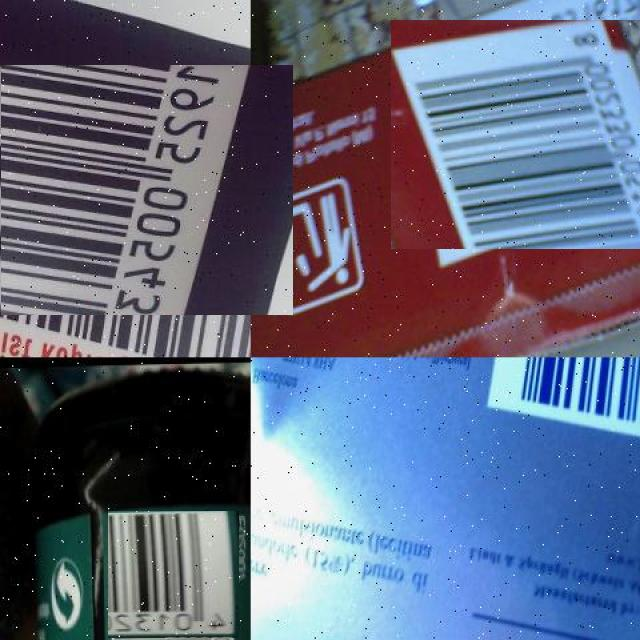Barcode: (0, 43, 272, 336), (401, 9, 640, 259), (109, 510, 238, 639)
